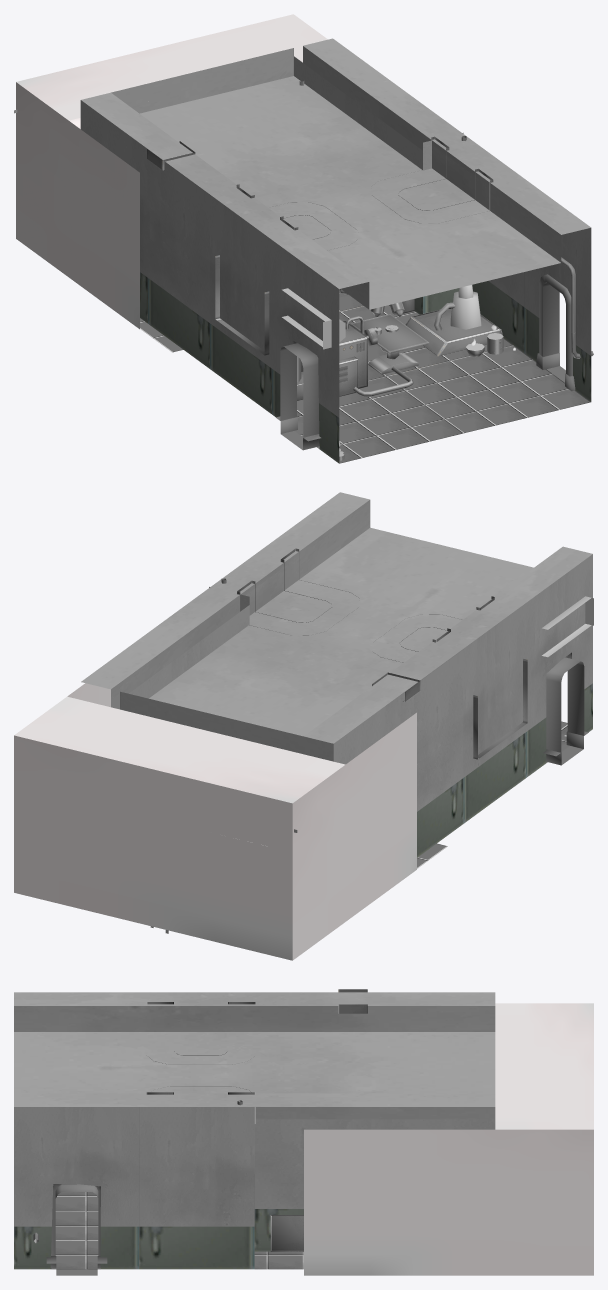
Rendered from MSH_Science_Lab_room_L3_R1_optimized.fbx.
3 views of the same model, one above another, from view 1: azimuth 30°, elevation 25°; view 2: azimuth 150°, elevation 25°; view 3: azimuth 270°, elevation 25° (orthographic). The views are drawn at different scales.
Visible parts, largest first — view 1: lightmap1, lightmap0, lightmap-1; view 2: lightmap1, lightmap-1, lightmap0; view 3: lightmap1, lightmap0, lightmap-1.
Part boxes in pixels (<box>): lightmap1: <box>14,14,591,463</box>; lightmap0: <box>69,81,593,400</box>; lightmap-1: <box>280,282,565,460</box>; lightmap1: <box>14,492,592,960</box>; lightmap-1: <box>546,657,584,765</box>; lightmap0: <box>221,578,593,759</box>; lightmap1: <box>14,989,593,1275</box>; lightmap0: <box>33,1100,303,1251</box>; lightmap-1: <box>55,1184,98,1275</box>.
Size of the model in its own units: 10.36 by 6.43 by 19.9.
